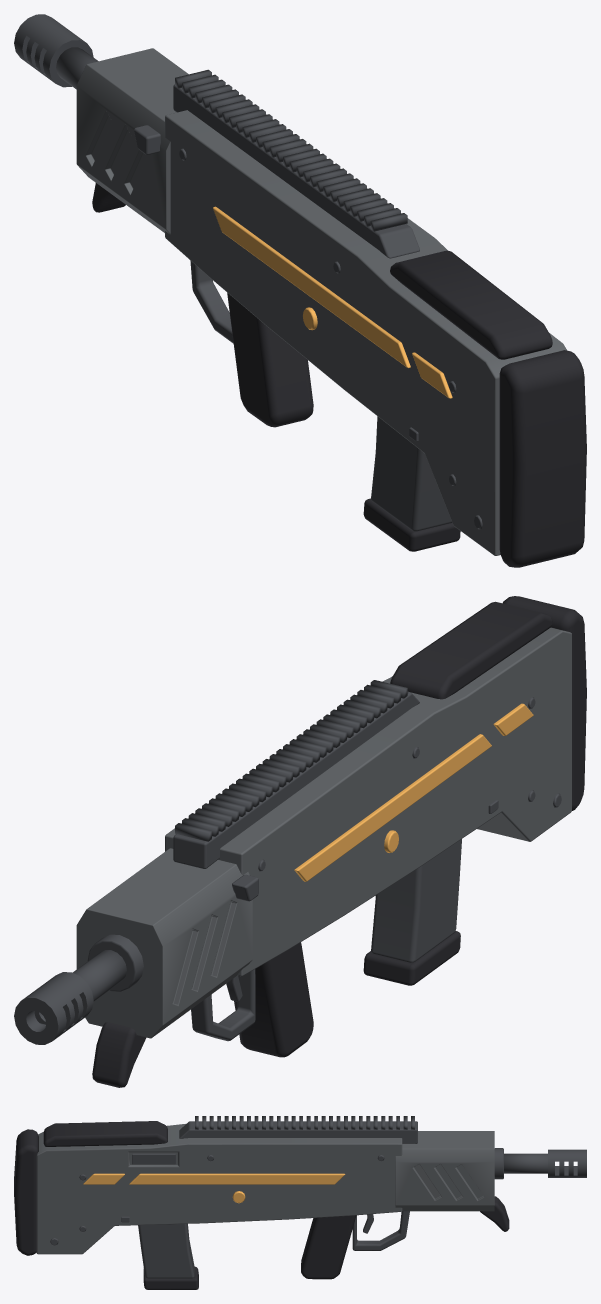
File: talon.glb
The picture shows the model from 3 angles, top to bottom: view 1: azimuth 30°, elevation 25°; view 2: azimuth 150°, elevation 25°; view 3: azimuth 270°, elevation 25°; orthographic projection. The views are drawn at different scales.
Parts seen in each view (by area): view 1: shell.007, buttpad.005, handguard.004, cheek.002, rail.003, mag.005, pgrip.005, railbase, stripe, brake.004, tguard.007, barrel.008 (+1 smaller); view 2: shell.007, handguard.004, mag.005, rail.003, cheek.002, pgrip.005, railbase, stripe, brake.004, buttpad.005, handstop, tguard.007 (+3 smaller); view 3: shell.007, handguard.004, mag.005, railbase, cheek.002, buttpad.005, pgrip.005, stripe.002, rail.003, brake.004, barrel.008, tguard.007 (+4 smaller).
Boxes of the visible parts, <box> form: shell.007: <box>165,110,566,555</box>; buttpad.005: <box>499,350,586,567</box>; handguard.004: <box>76,48,188,234</box>; cheek.002: <box>390,250,552,359</box>; rail.003: <box>175,69,407,231</box>; mag.005: <box>363,416,460,551</box>; pgrip.005: <box>227,292,313,427</box>; railbase: <box>173,84,419,258</box>; stripe: <box>213,206,410,368</box>; brake.004: <box>14,14,93,87</box>; tguard.007: <box>190,260,233,343</box>; barrel.008: <box>56,47,98,89</box>; shell.007: <box>165,627,571,976</box>; handguard.004: <box>76,848,252,1038</box>; mag.005: <box>363,839,461,985</box>; rail.003: <box>175,680,407,841</box>; cheek.002: <box>390,601,552,699</box>; pgrip.005: <box>234,942,313,1057</box>; railbase: <box>173,692,419,868</box>; stripe: <box>294,734,491,881</box>; brake.004: <box>14,972,93,1044</box>; buttpad.005: <box>503,596,586,810</box>; handstop: <box>92,1022,146,1087</box>; tguard.007: <box>191,969,255,1041</box>; shell.007: <box>36,1123,402,1254</box>; handguard.004: <box>395,1131,494,1211</box>; mag.005: <box>138,1224,198,1289</box>; railbase: <box>179,1121,417,1143</box>; cheek.002: <box>43,1121,167,1146</box>; buttpad.005: <box>14,1129,38,1255</box>; pgrip.005: <box>301,1215,356,1279</box>; stripe.002: <box>129,1173,345,1184</box>; rail.003: <box>195,1116,414,1129</box>; brake.004: <box>548,1149,586,1177</box>; barrel.008: <box>504,1153,547,1173</box>; tguard.007: <box>352,1211,409,1250</box>.
Bounding box in the file's own units: 0.09 × 0.254 × 0.807.
